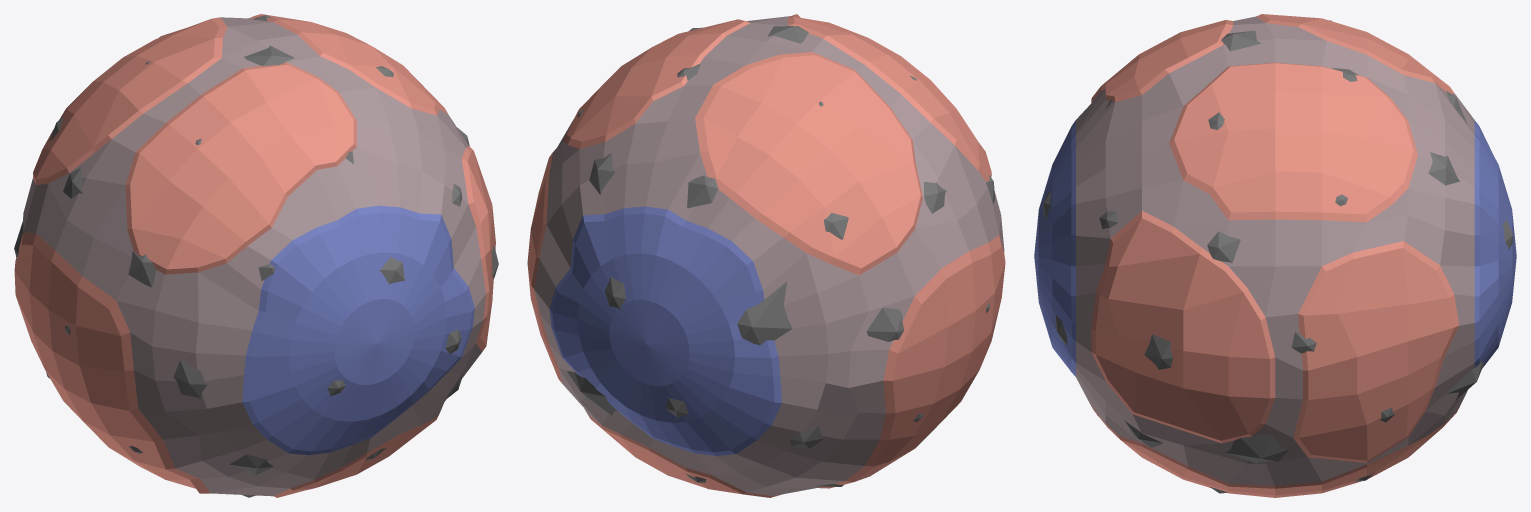
The model's file is Planet_Surface.fbx.
3 renders of one model, left to right at view 1: azimuth 30°, elevation 25°; view 2: azimuth 150°, elevation 25°; view 3: azimuth 270°, elevation 25°, orthographic.
Visible parts, largest first — view 1: Planet1, Planet2; view 2: Planet1, Planet2; view 3: Planet1, Planet2.
Boxes of the visible parts, x1=… form: Planet1: x1=14, y1=14, x2=495, y2=497; Planet2: x1=14, y1=15, x2=498, y2=497; Planet1: x1=527, y1=14, x2=1005, y2=497; Planet2: x1=567, y1=26, x2=994, y2=486; Planet1: x1=1034, y1=14, x2=1516, y2=497; Planet2: x1=1043, y1=20, x2=1512, y2=493.
Bounding box in the file's own units: 10120 × 10092 × 10060.
